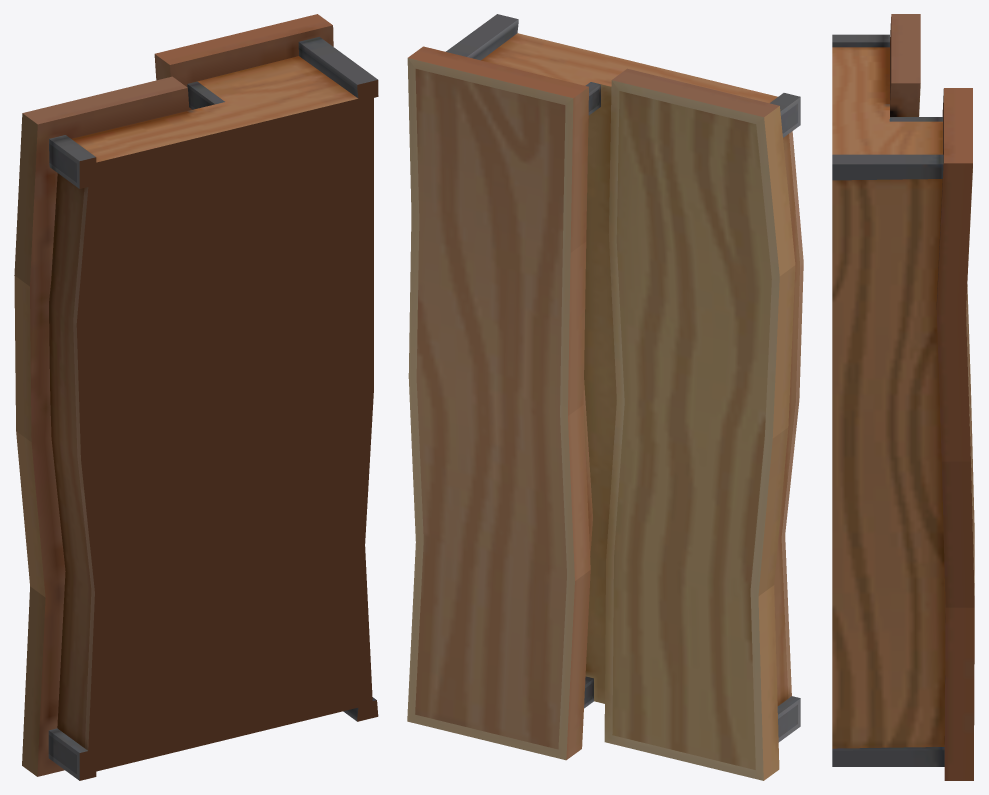
File: Bleachers.fbx
The picture shows the model from 3 angles, left to right: view 1: azimuth 30°, elevation 25°; view 2: azimuth 150°, elevation 25°; view 3: azimuth 270°, elevation 25°; orthographic projection. The views are drawn at different scales.
Visible parts, largest first — view 1: SoccerBleachers; view 2: SoccerBleachers; view 3: SoccerBleachers.
Part boxes in pixels (box(x1,y1,x2,y2)): SoccerBleachers: box(14, 14, 378, 780); SoccerBleachers: box(407, 14, 803, 780); SoccerBleachers: box(832, 14, 974, 780).
Size of the model in its own units: 104 by 193 by 40.41.
